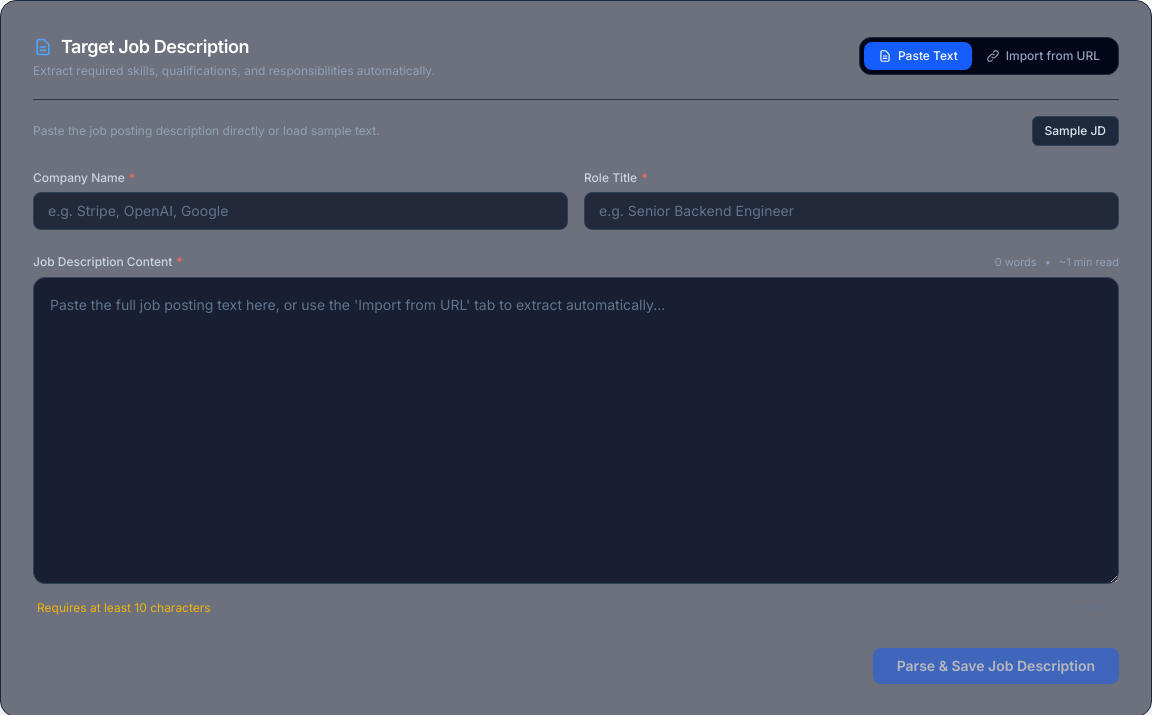
Test: JDPasteForm Component - Scraper UI & Tab Integration › should show validation error when attempting to scrape an invalid or empty URL
Switch to URL mode
Click the button "Import from URL".
click(1043, 56)  # box x1=972 y1=42 x2=1114 y2=70
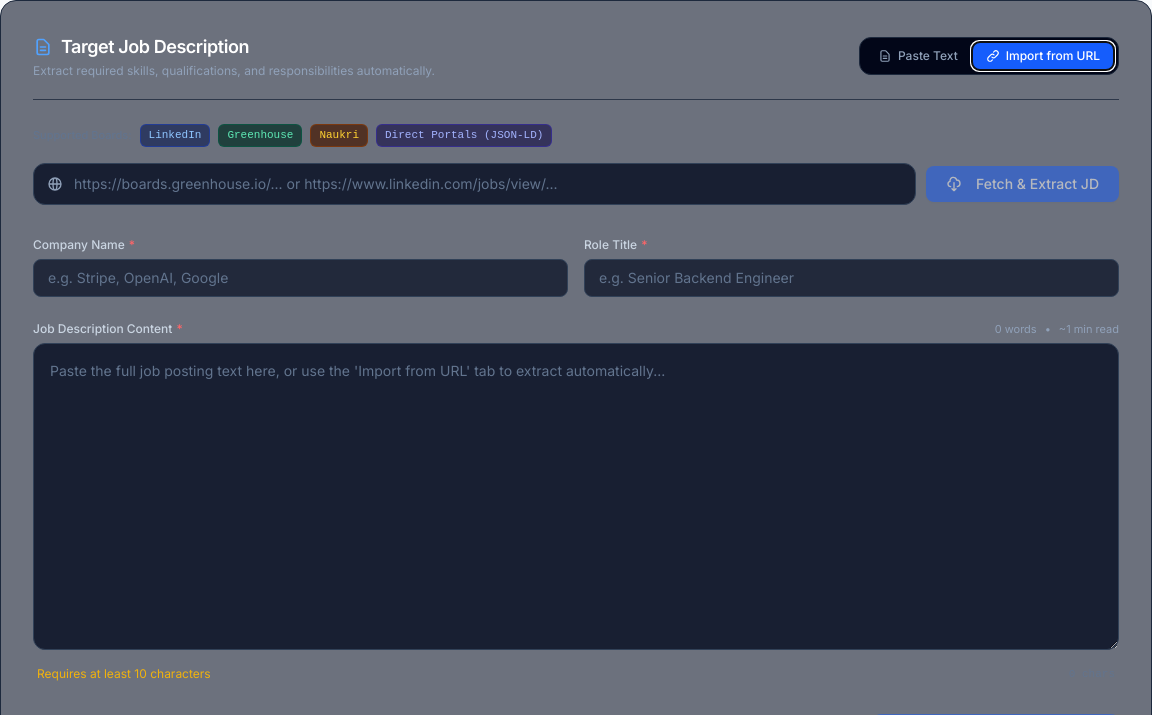
Expected: the button "Fetch & Extract JD" is disabled, x1=926 y1=166 x2=1119 y2=202
Enter invalid URL format
Type "ftp://invalid-url.com" into the field with placeholder "https://boards.greenhouse.io".
click(474, 184); type("ftp://invalid-url.com")  # box x1=33 y1=162 x2=916 y2=204
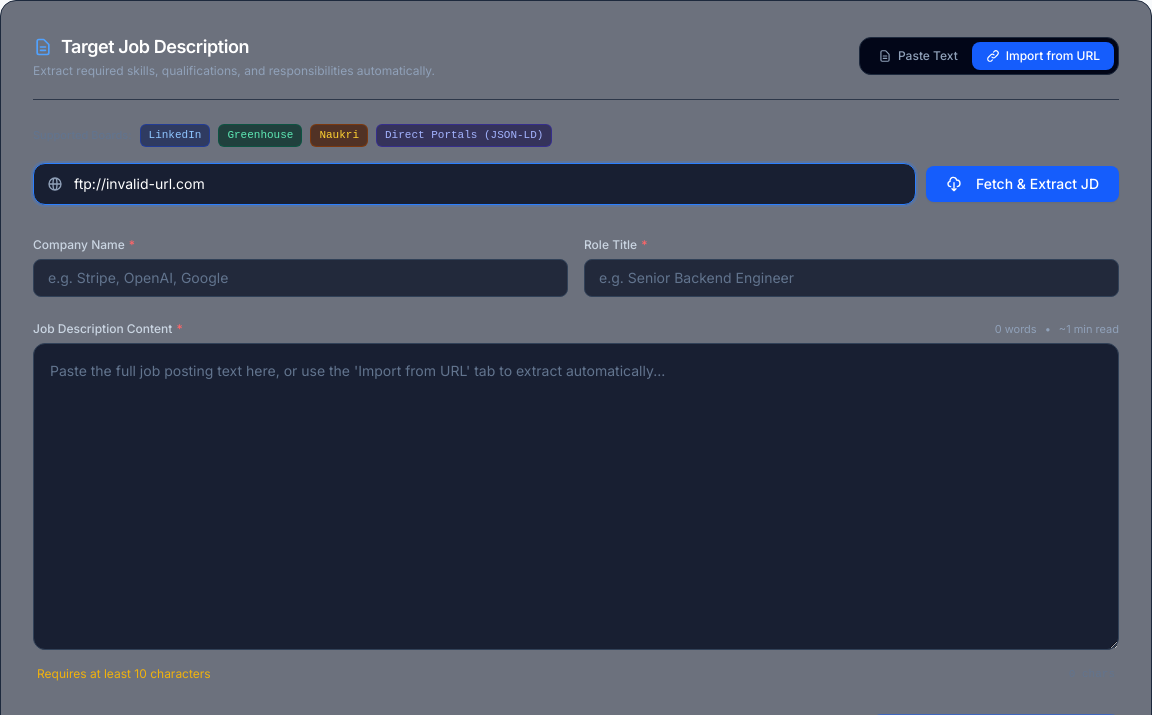
Click the button "Fetch & Extract JD".
click(1022, 184)  # box x1=926 y1=166 x2=1119 y2=202
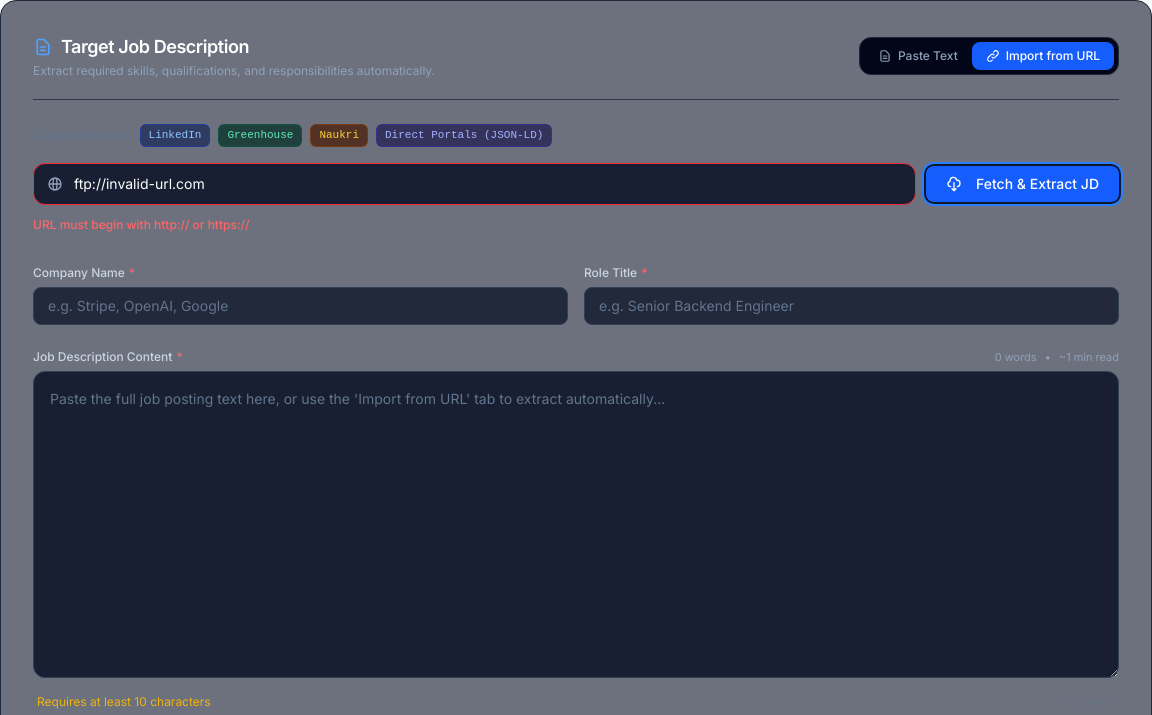
Expected: the text "URL must begin with http:// or https://" is shown, x1=33 y1=216 x2=249 y2=232
